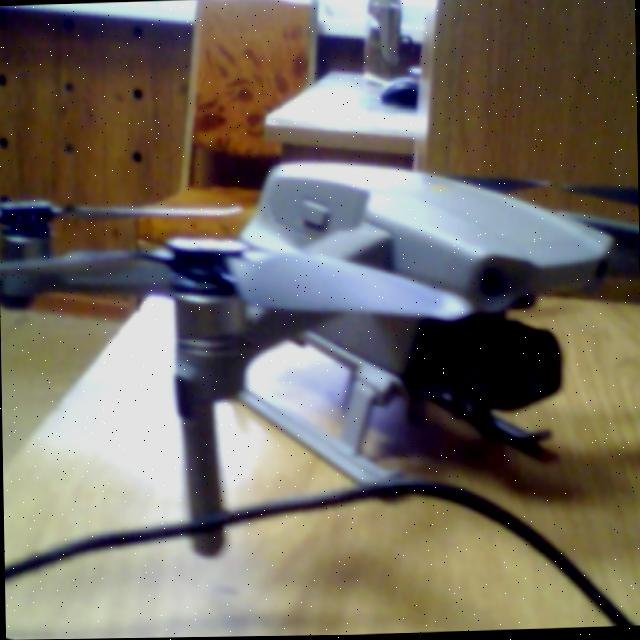drone: (7, 131, 640, 560)
